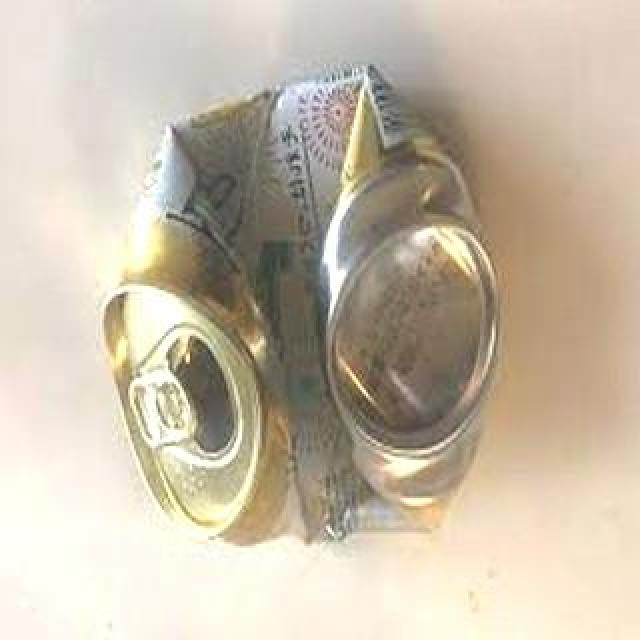Can: (100, 63, 512, 565)
